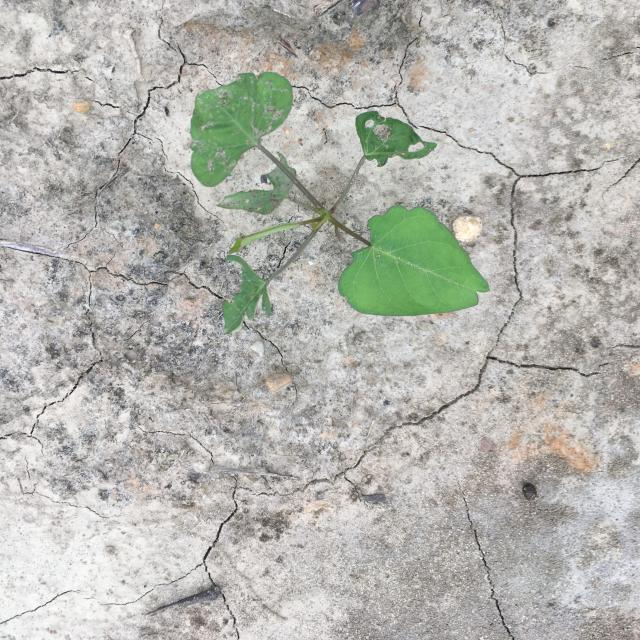MorningGlory: (190, 71, 490, 336)
